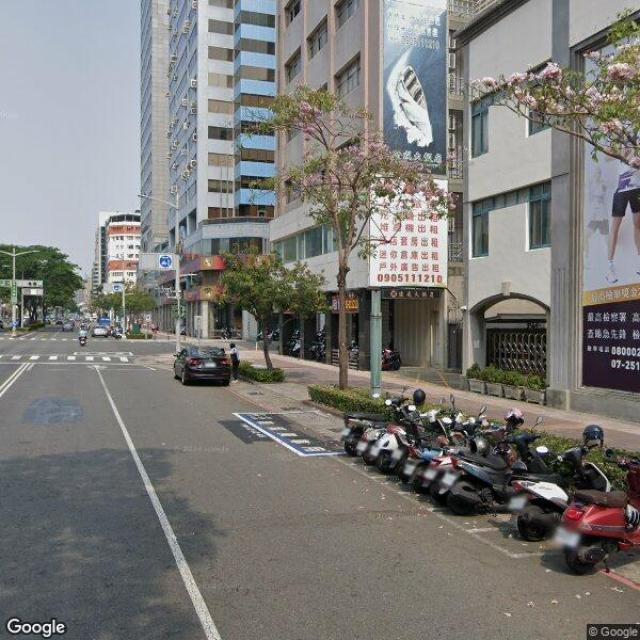Legalparking: (334, 406, 636, 548)
illegalparking: (171, 340, 233, 390)
